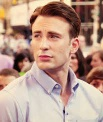male: (27, 3, 86, 75)
